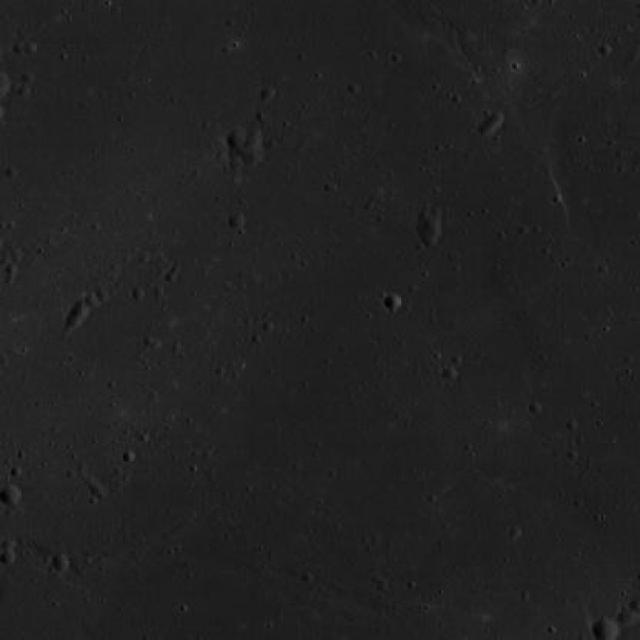crater: (592, 618, 620, 640), (0, 484, 22, 506), (619, 606, 638, 626), (227, 130, 247, 148), (242, 150, 260, 168), (384, 294, 402, 312), (52, 556, 70, 572), (247, 135, 264, 151)
